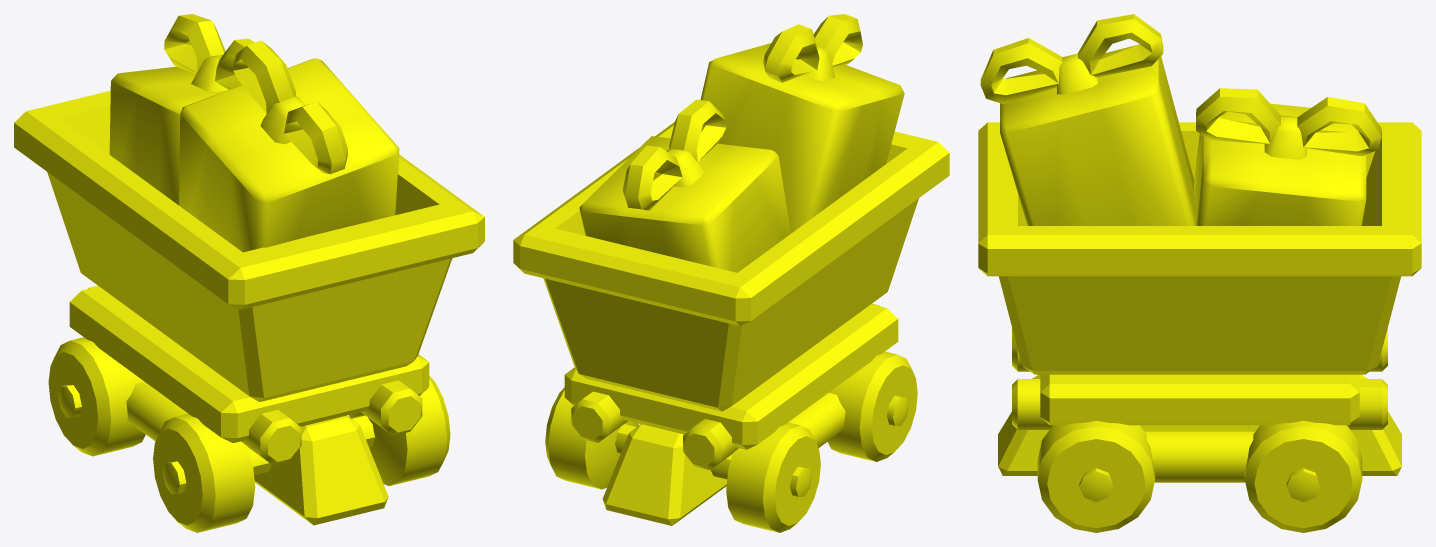
The model's file is kaykit-train-tender-presents-a.glb.
3 views of the same model, side by side, from view 1: azimuth 30°, elevation 25°; view 2: azimuth 150°, elevation 25°; view 3: azimuth 270°, elevation 25° (orthographic). The views are drawn at different scales.
Parts seen in each view (by area): view 1: train_tender_presents_A; view 2: train_tender_presents_A; view 3: train_tender_presents_A.
Part boxes in pixels (<box>): train_tender_presents_A: <box>14,14,484,532</box>; train_tender_presents_A: <box>513,14,949,532</box>; train_tender_presents_A: <box>978,14,1421,532</box>.
Bounding box in the file's own units: 0.446 × 0.715 × 0.642.
